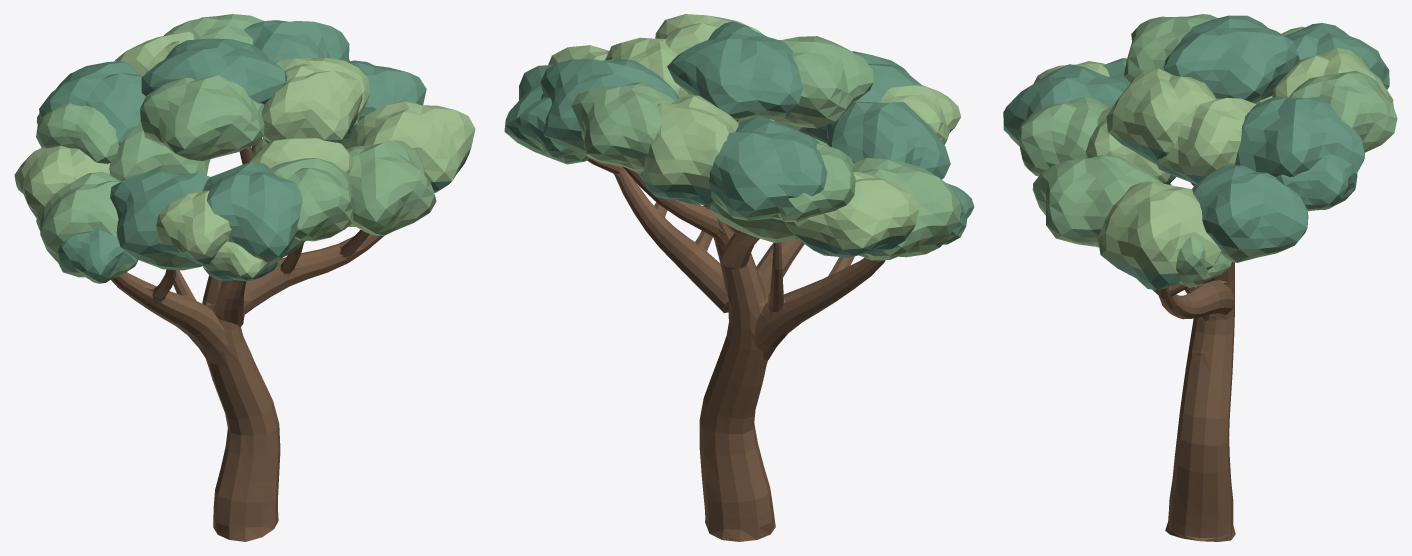
File: Tree_Landmark_Blockout_Refined_v1.glb
3 renders of one model, left to right at view 1: azimuth 30°, elevation 25°; view 2: azimuth 150°, elevation 25°; view 3: azimuth 270°, elevation 25°, orthographic. The views are drawn at different scales.
Visible parts, largest first — view 1: Canopy_Clusters, Trunk_and_Branches; view 2: Canopy_Clusters, Trunk_and_Branches; view 3: Canopy_Clusters, Trunk_and_Branches.
Part boxes in pixels (bbox=[...]): Canopy_Clusters: bbox=[14, 14, 475, 283]; Trunk_and_Branches: bbox=[111, 138, 383, 541]; Canopy_Clusters: bbox=[504, 14, 974, 260]; Trunk_and_Branches: bbox=[587, 119, 885, 541]; Canopy_Clusters: bbox=[1003, 14, 1397, 290]; Trunk_and_Branches: bbox=[1152, 182, 1235, 541].
Bounding box in the file's own units: 25 × 28 × 20.
